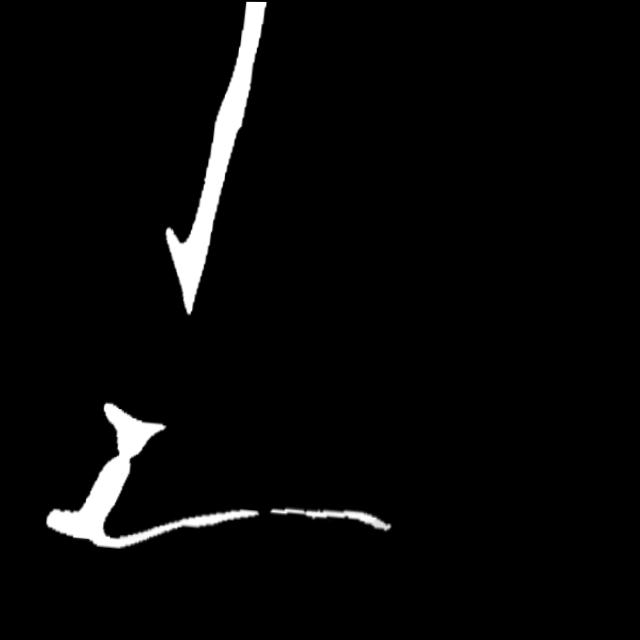sup: (252, 500, 278, 524)
